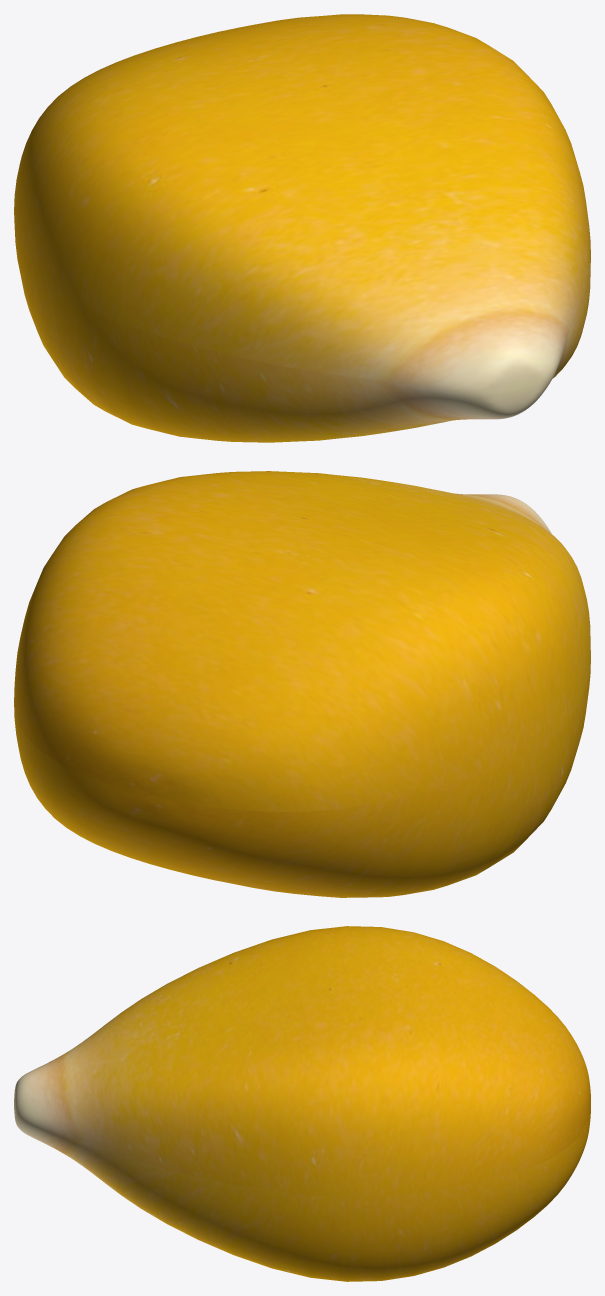
Rendered from kernel.fbx.
The picture shows the model from 3 angles, top to bottom: view 1: azimuth 30°, elevation 25°; view 2: azimuth 150°, elevation 25°; view 3: azimuth 270°, elevation 25°; orthographic projection. The views are drawn at different scales.
Parts seen in each view (by area): view 1: Corn_kernel-material.001; view 2: Corn_kernel-material.001; view 3: Corn_kernel-material.001.
Part boxes in pixels (left/top/right/bottom): Corn_kernel-material.001: left=14, top=14, right=590, bottom=442; Corn_kernel-material.001: left=14, top=471, right=590, bottom=897; Corn_kernel-material.001: left=14, top=926, right=590, bottom=1281.
Bounding box in the file's own units: 71.57 × 43.79 × 94.11.
1 material, 1 textured.
